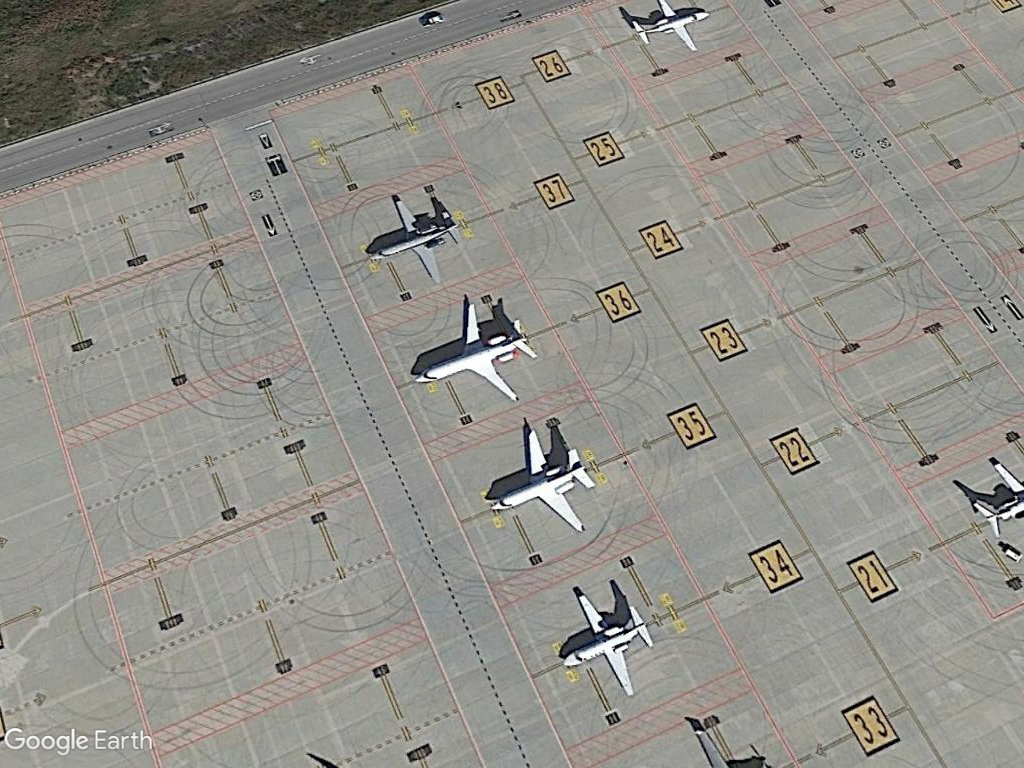chartered: (405, 304, 540, 405), (476, 429, 600, 535), (545, 589, 659, 703), (368, 198, 464, 285), (620, 0, 712, 55)
